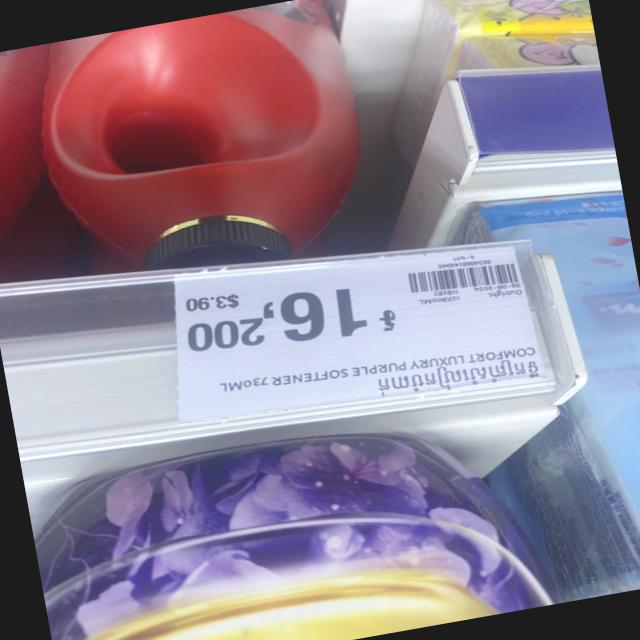144: (181, 291, 243, 314)
555: (431, 288, 462, 296)
573: (416, 295, 461, 307)
599: (256, 282, 370, 347)
643: (184, 313, 268, 356)
695: (471, 282, 523, 294)
744: (449, 252, 477, 264)
830: (215, 374, 268, 395)
873: (436, 257, 493, 271)
Yolov11kh: (370, 354, 542, 401), (375, 308, 396, 336)
